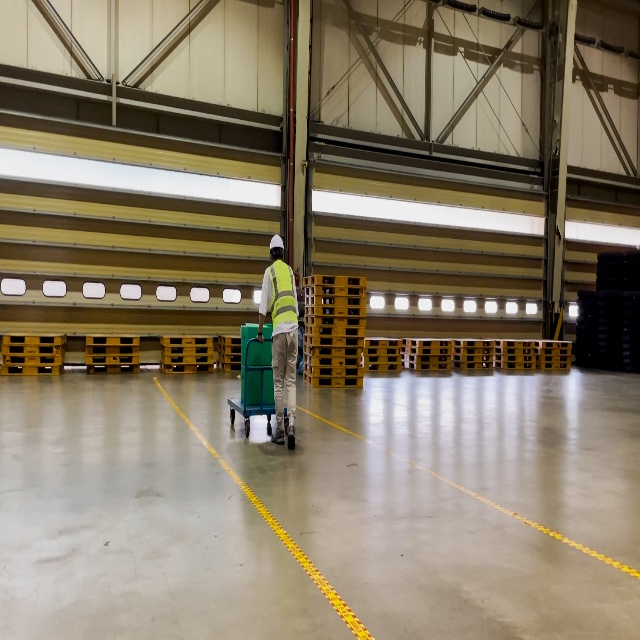Box: (241, 323, 275, 366), (241, 363, 275, 405)
Worker: (256, 234, 299, 450)
